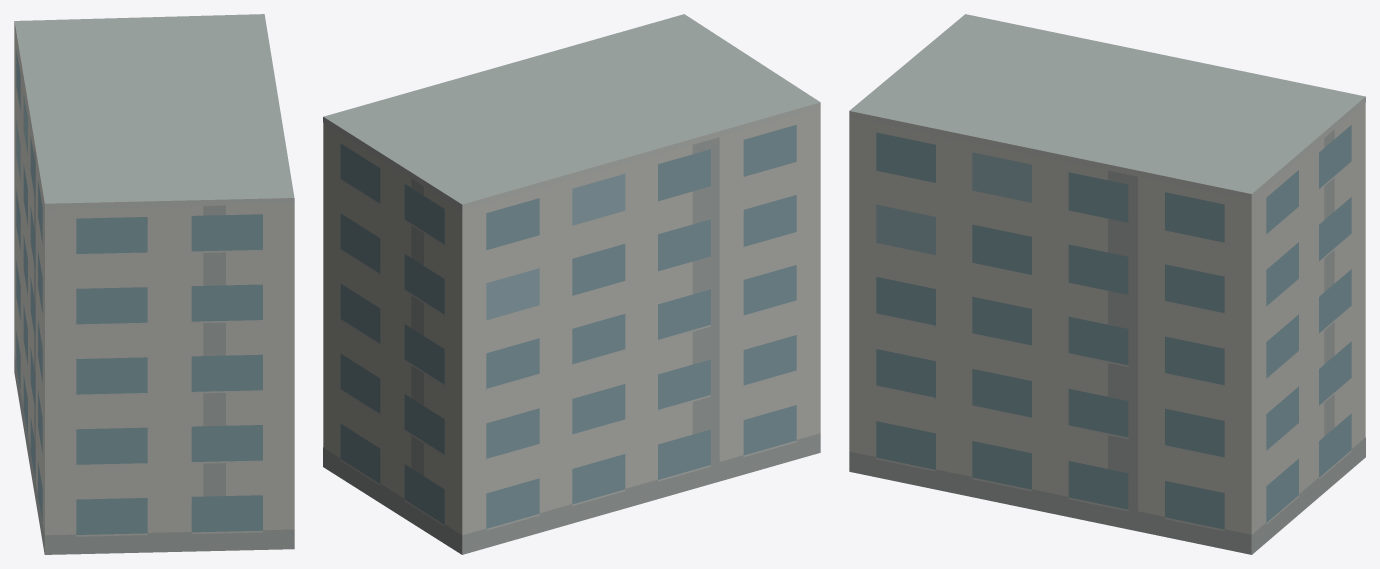
File: survey-upis-32884803.glb
3 renders of one model, left to right at view 1: azimuth 30°, elevation 25°; view 2: azimuth 150°, elevation 25°; view 3: azimuth 270°, elevation 25°, orthographic. The views are drawn at different scales.
Visible parts, largest first — view 1: survey-upis-32884803.tmp; view 2: survey-upis-32884803.tmp; view 3: survey-upis-32884803.tmp.
Boxes of the visible parts, bbox=[...] form: survey-upis-32884803.tmp: bbox=[14, 14, 294, 554]; survey-upis-32884803.tmp: bbox=[323, 14, 820, 554]; survey-upis-32884803.tmp: bbox=[849, 14, 1365, 554].
Size of the model in its own units: 15.32 by 14.3 by 18.56.
